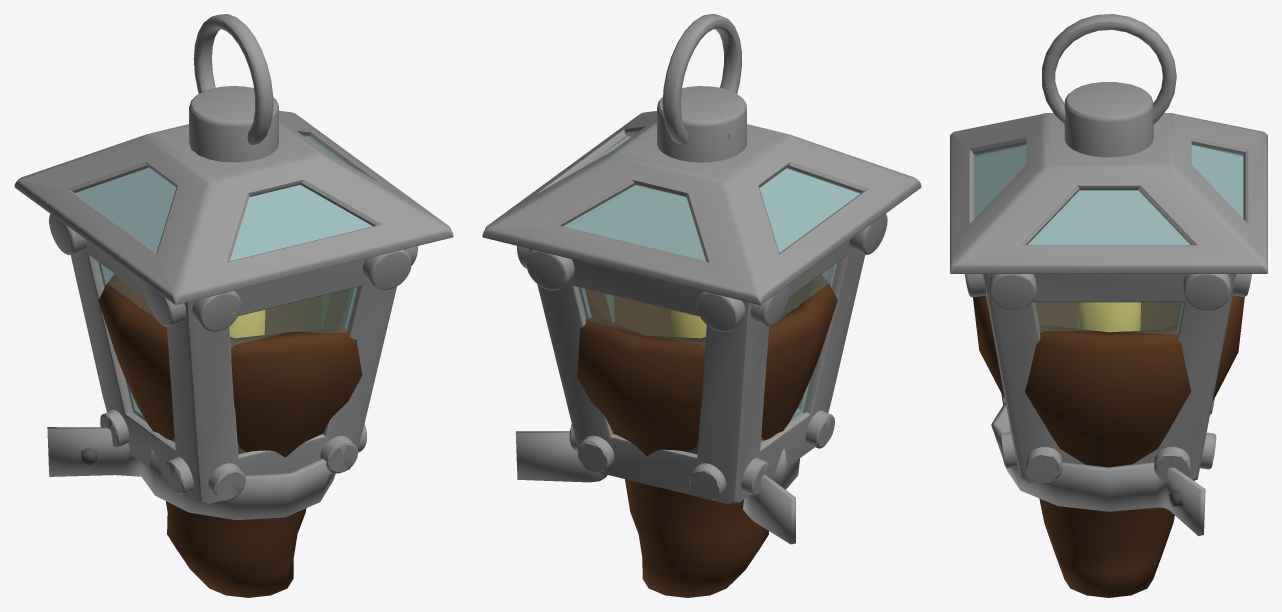
The model's file is LightObjects.fbx.
3 views of the same model, side by side, from view 1: azimuth 30°, elevation 25°; view 2: azimuth 150°, elevation 25°; view 3: azimuth 270°, elevation 25° (orthographic).
Parts seen in each view (by area): view 1: Lantern, Torch, Candle1; view 2: Lantern, Torch, Candle1; view 3: Lantern, Torch, Candle1.
Part boxes in pixels (bbox=[...]): Lantern: bbox=[14, 14, 453, 503]; Torch: bbox=[47, 274, 362, 597]; Candle1: bbox=[229, 309, 265, 338]; Lantern: bbox=[482, 14, 921, 503]; Torch: bbox=[515, 274, 837, 597]; Candle1: bbox=[670, 310, 706, 338]; Lantern: bbox=[950, 14, 1267, 482]; Torch: bbox=[973, 295, 1244, 597]; Candle1: bbox=[1076, 302, 1140, 332].
Bounding box in the file's own units: 0.2581 × 0.4957 × 0.2566.
